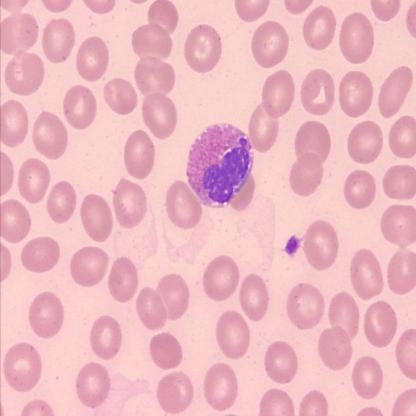Eosinophil: (185, 122, 254, 212)
